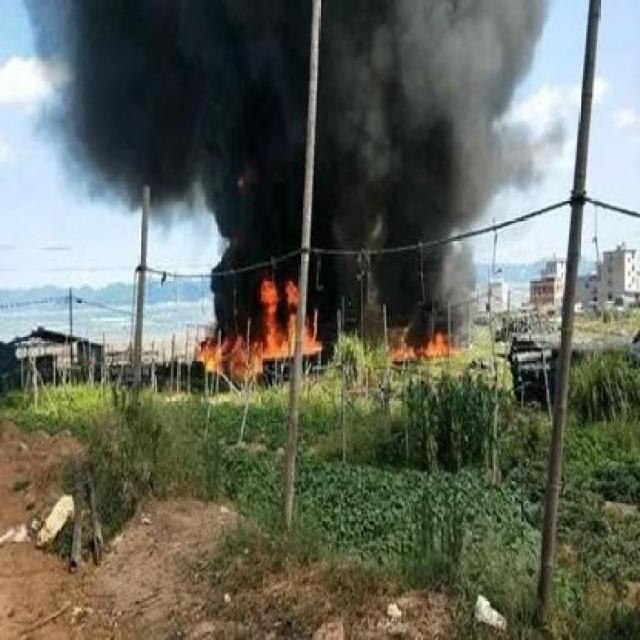Fire: (197, 278, 328, 383), (395, 323, 453, 362)
Smoke: (52, 4, 558, 252)
